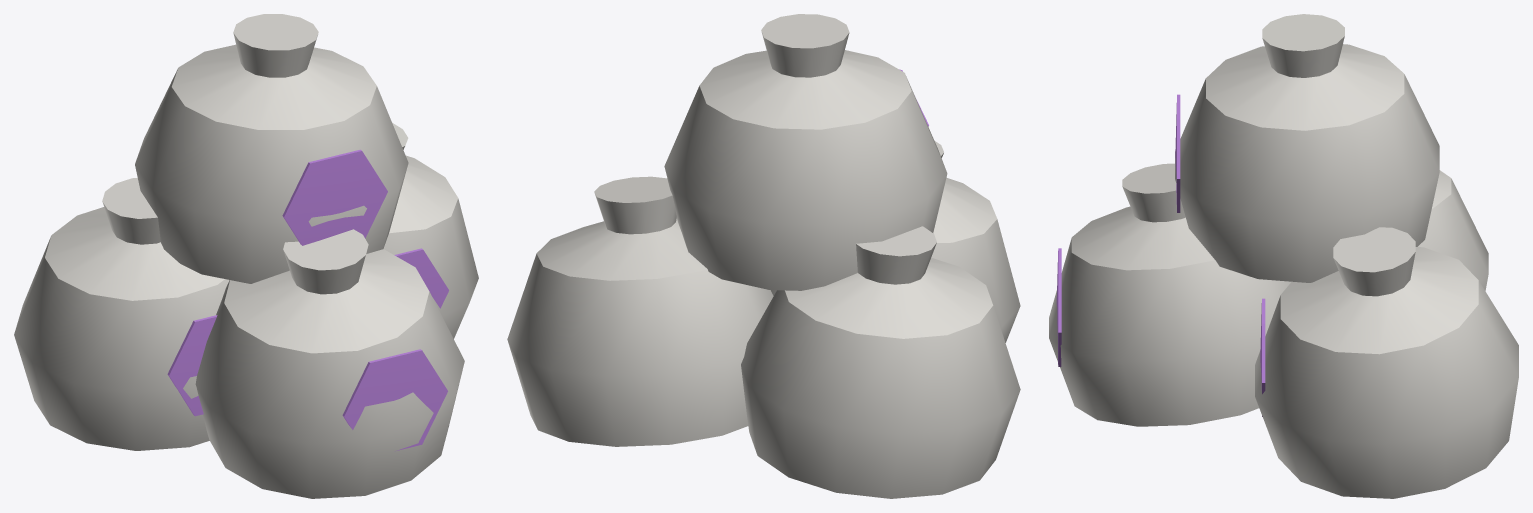
The model's file is FlourSack_Pile.fbx.
3 renders of one model, left to right at view 1: azimuth 30°, elevation 25°; view 2: azimuth 150°, elevation 25°; view 3: azimuth 270°, elevation 25°, orthographic. The views are drawn at different scales.
Visible parts, largest first — view 1: FlourSack_Pile; view 2: FlourSack_Pile; view 3: FlourSack_Pile.
Boxes of the visible parts, left/top/right/bottom form: FlourSack_Pile: left=14, top=14, right=478, bottom=498; FlourSack_Pile: left=507, top=14, right=1020, bottom=498; FlourSack_Pile: left=1049, top=14, right=1518, bottom=498.
Size of the model in its own units: 2.99 by 2.42 by 2.77.
